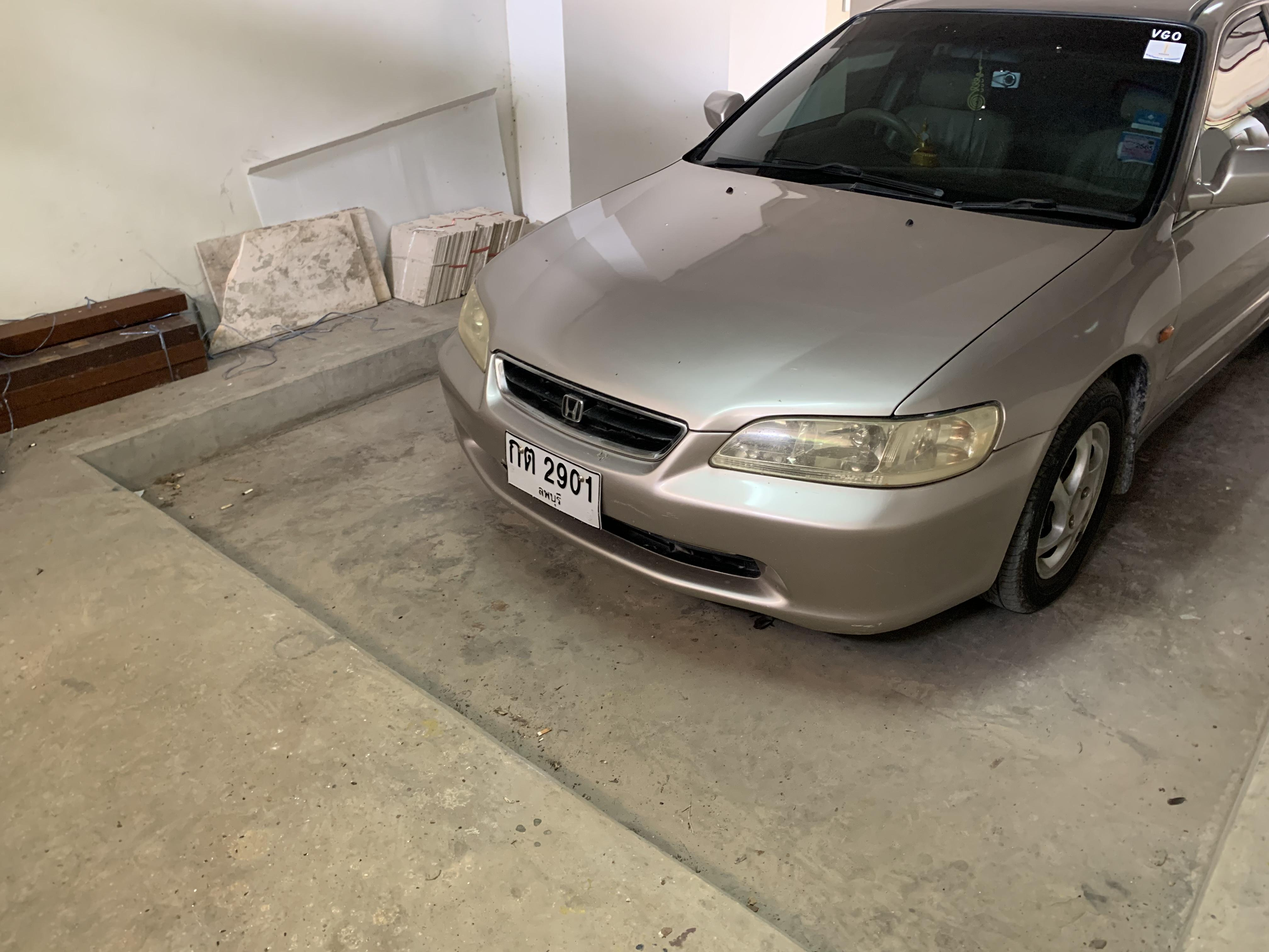license-plate: (504, 428, 606, 529)
